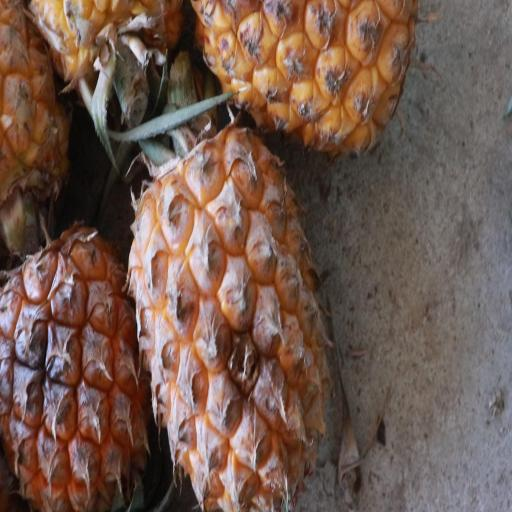Pineapple - v8 v1: (123, 117, 336, 512), (0, 207, 154, 510), (178, 0, 416, 162)
